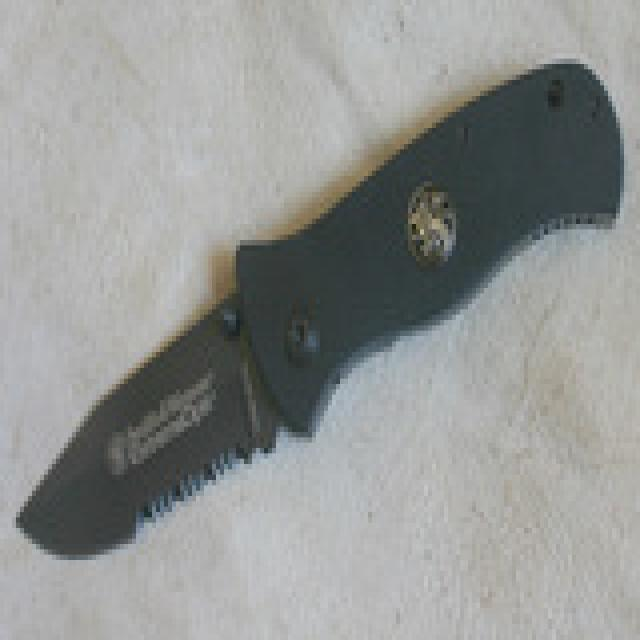Knife: (13, 75, 611, 573)
